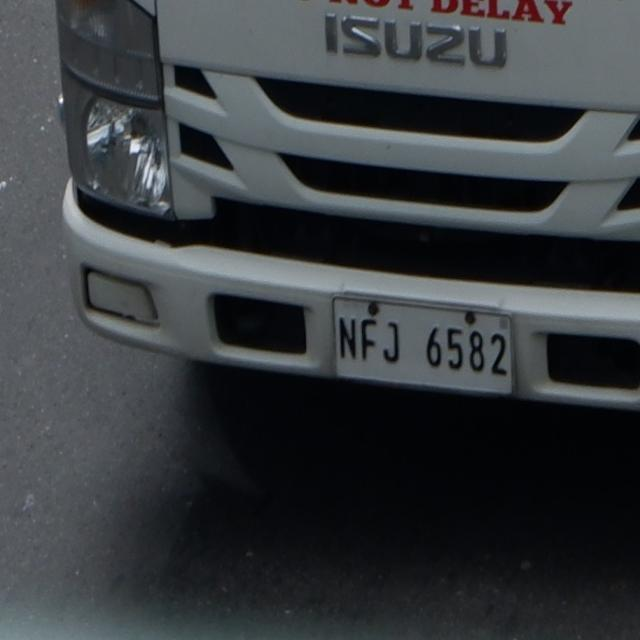LicensePlate: (318, 291, 525, 403)
